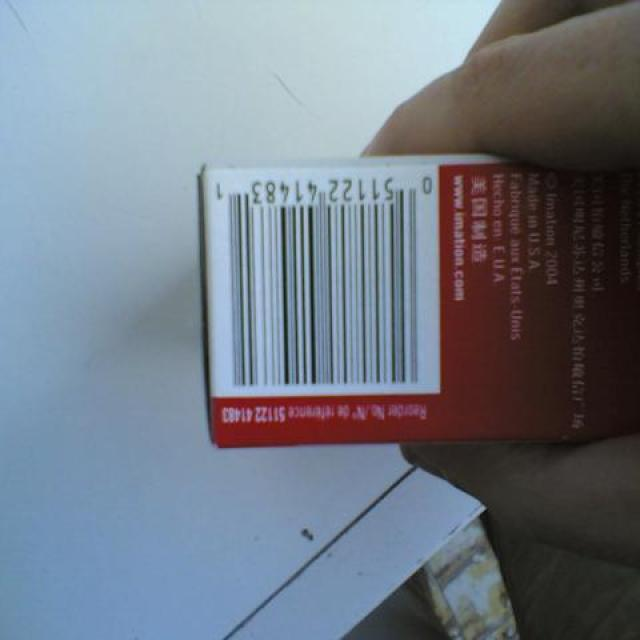Barcode: (202, 157, 438, 388)
